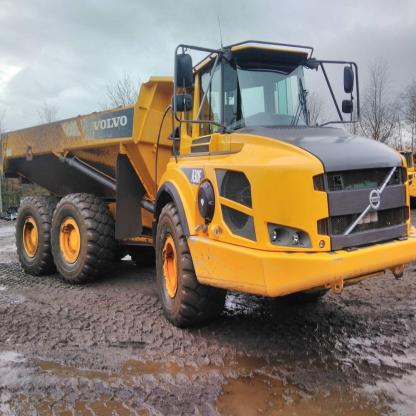dump_truck: (3, 37, 415, 346)
